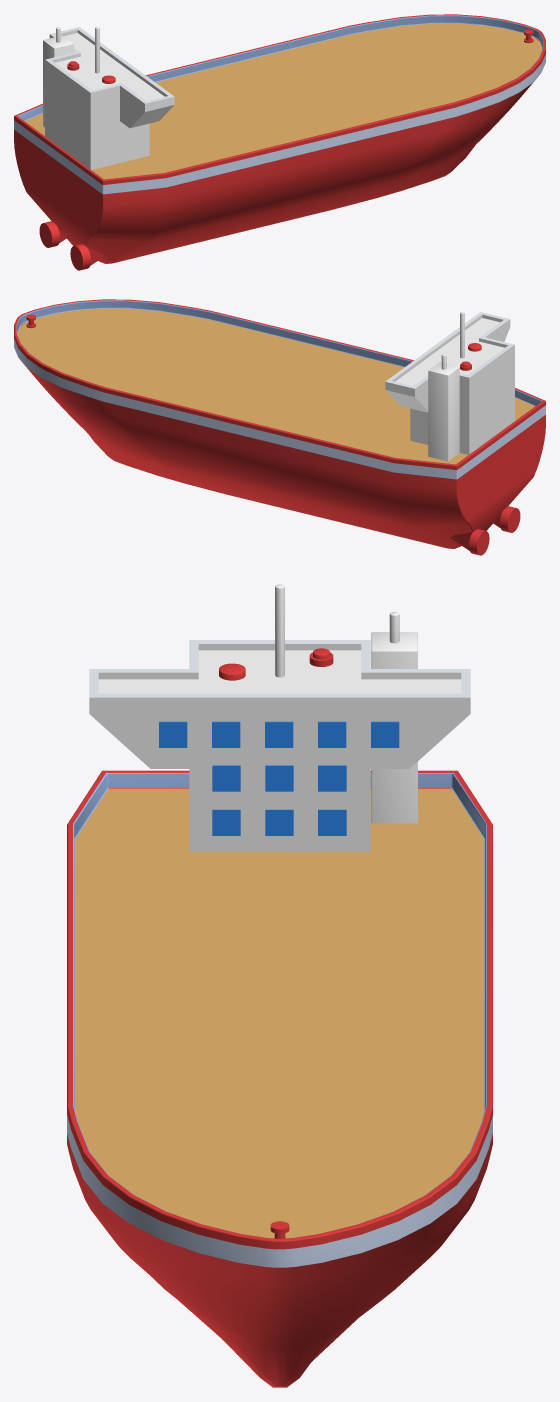
The model's file is Barge.fbx.
3 renders of one model, top to bottom at view 1: azimuth 30°, elevation 25°; view 2: azimuth 150°, elevation 25°; view 3: azimuth 270°, elevation 25°, orthographic. The views are drawn at different scales.
Parts seen in each view (by area): view 1: Barge; view 2: Barge; view 3: Barge.
Boxes of the visible parts, box(x1,y1,x2,y2) form: Barge: box(14, 14, 545, 270); Barge: box(14, 299, 545, 555); Barge: box(67, 584, 492, 1387).
Size of the model in its own units: 0.8865 by 0.4135 by 0.3389.
